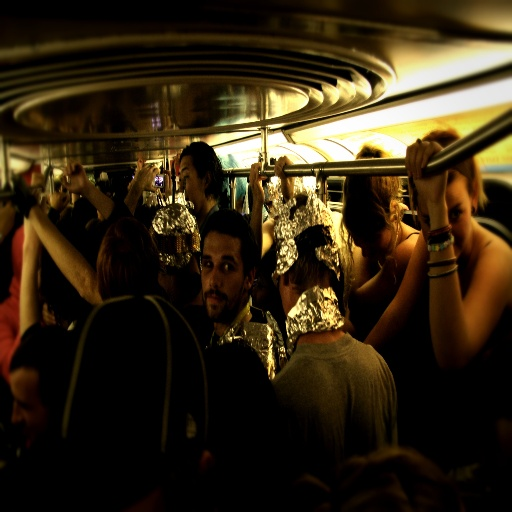hand: (424, 172, 504, 331), (272, 154, 295, 200), (60, 158, 89, 192), (134, 161, 160, 192), (248, 160, 263, 208), (31, 185, 48, 219), (51, 190, 69, 213), (163, 166, 173, 204)
